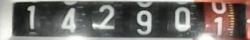digits: (98, 4, 116, 30), (174, 6, 191, 32), (135, 10, 152, 34), (61, 7, 76, 31), (26, 5, 36, 29), (213, 16, 224, 36)
